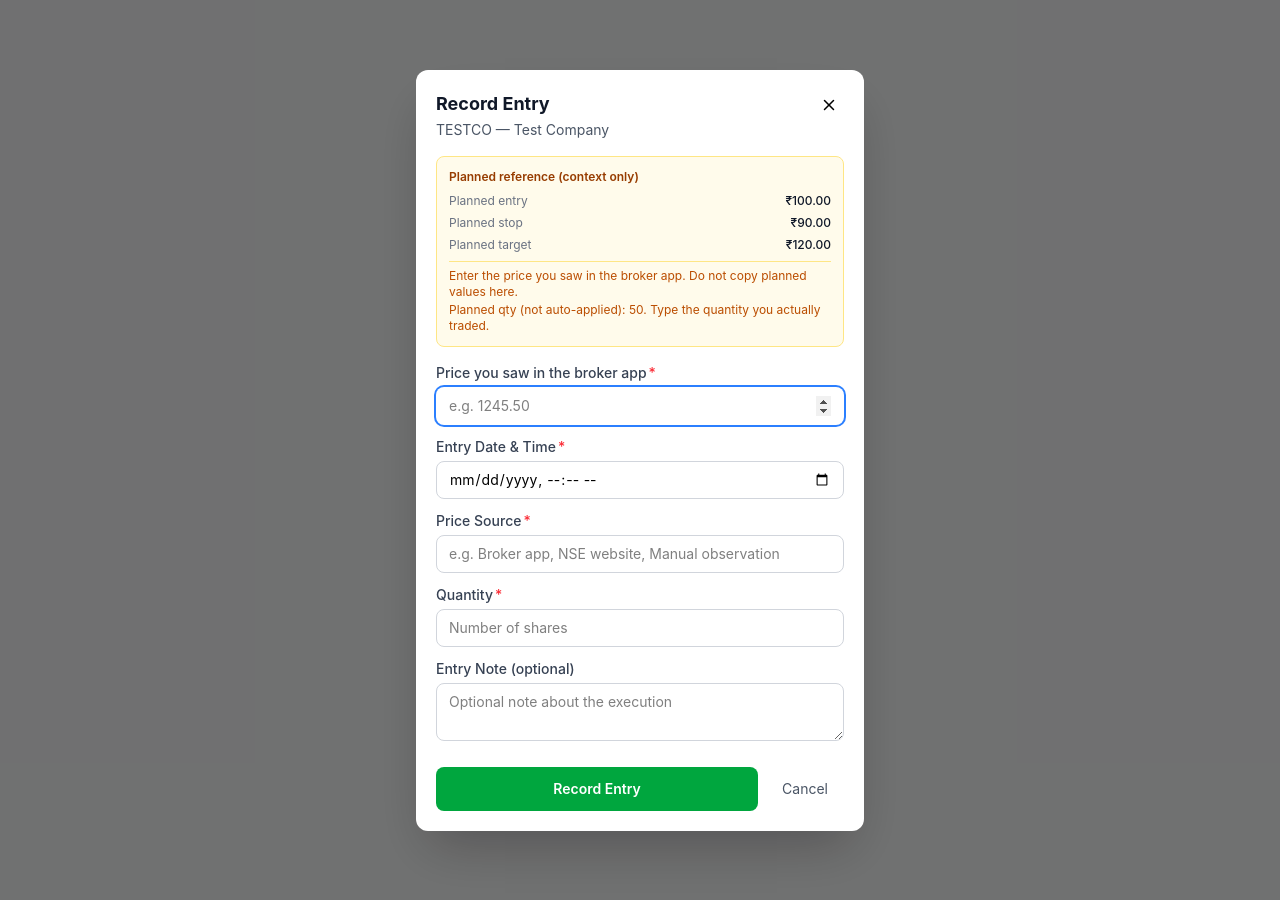
Test: OpenTradeModal › requires entry price source before submit
Type "101.25" into the number field labelled "Price you saw in the broker app*".
click(640, 406); type("101.25")  # box [436,386,844,424]
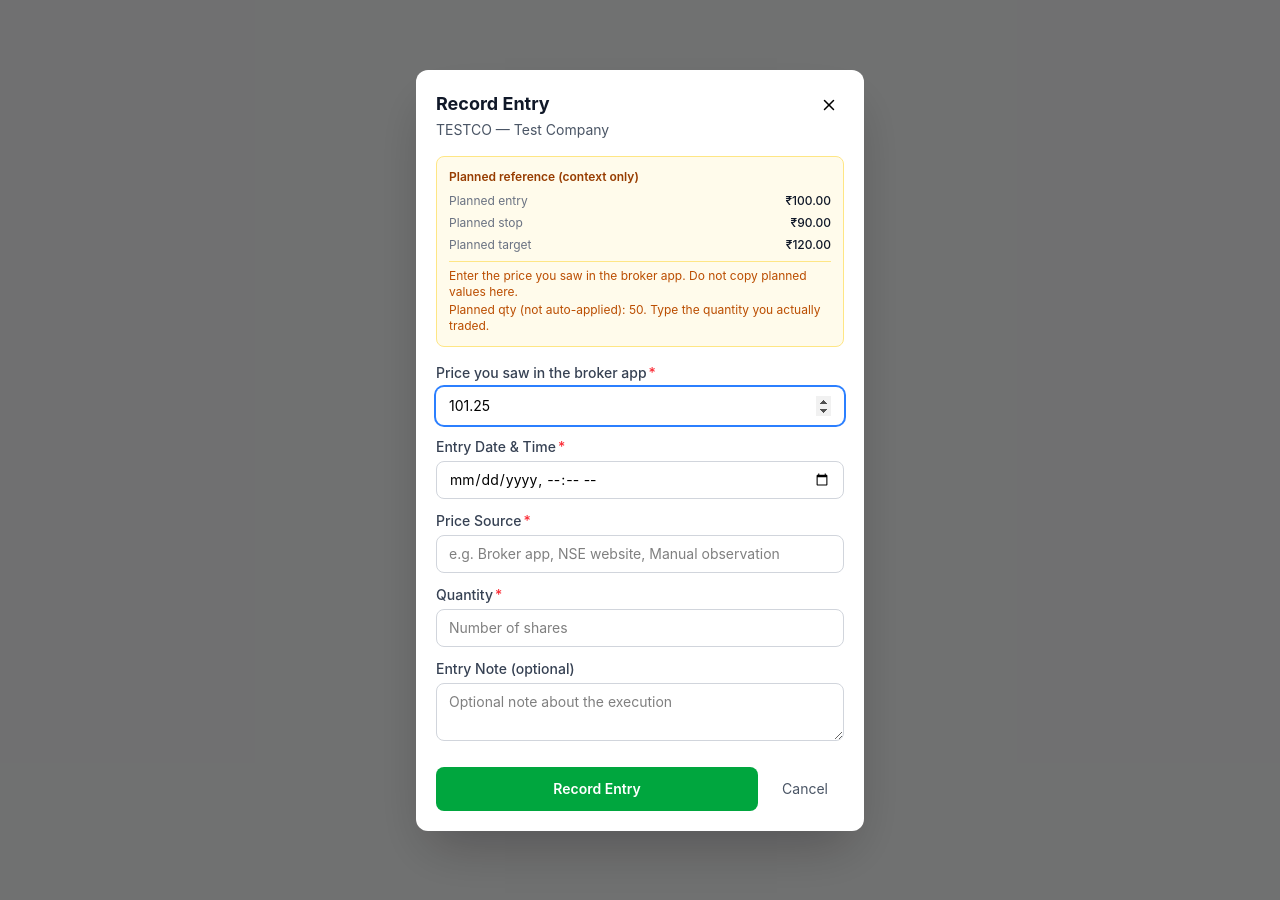
Type "2026-08-20T10:30" into the field labelled "Entry Date & Time*".
click(640, 480); type("2026-08-20T10:30")  # box [436,460,844,498]
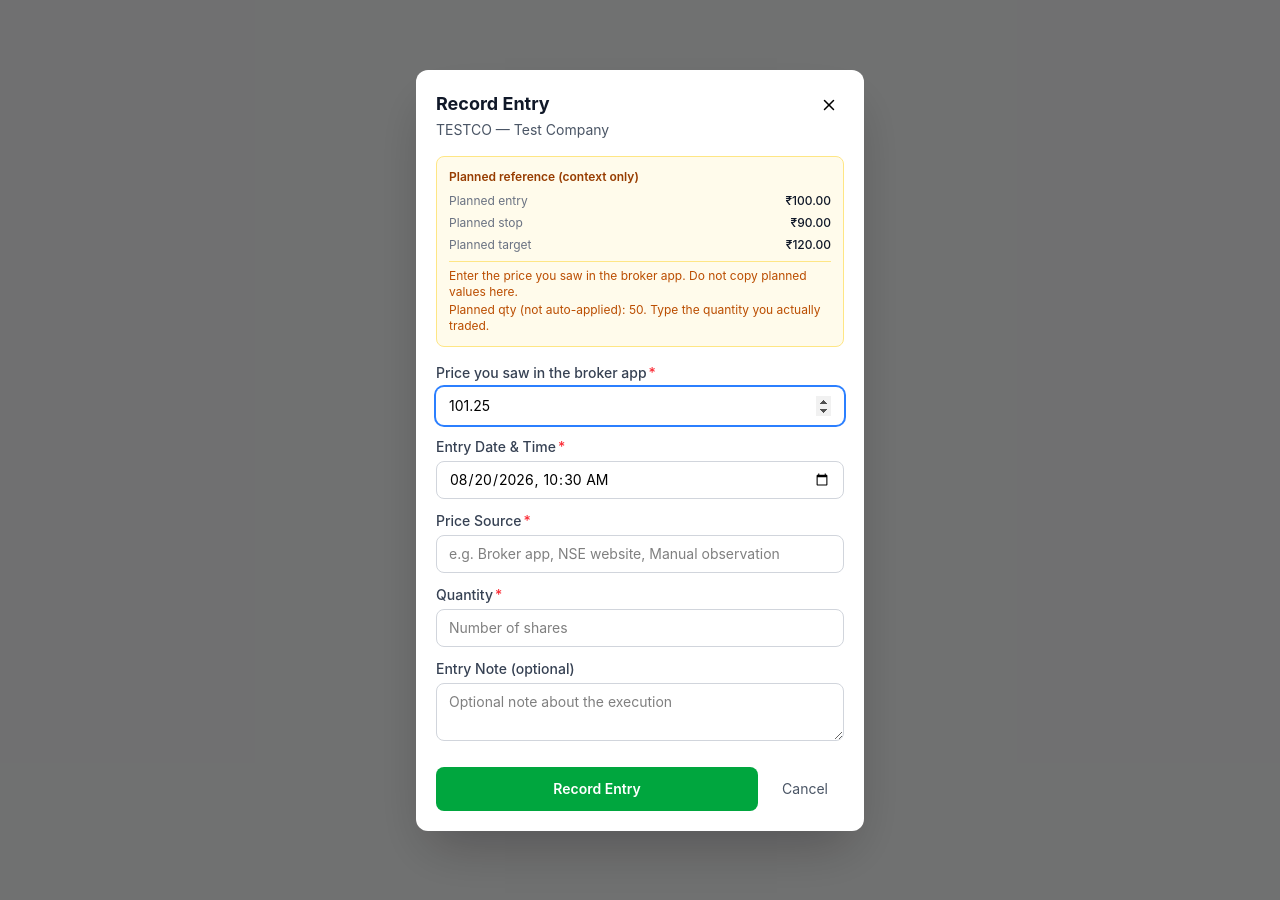
Click the button with id "open-trade-submit".
click(597, 788)  # box [436,766,758,810]
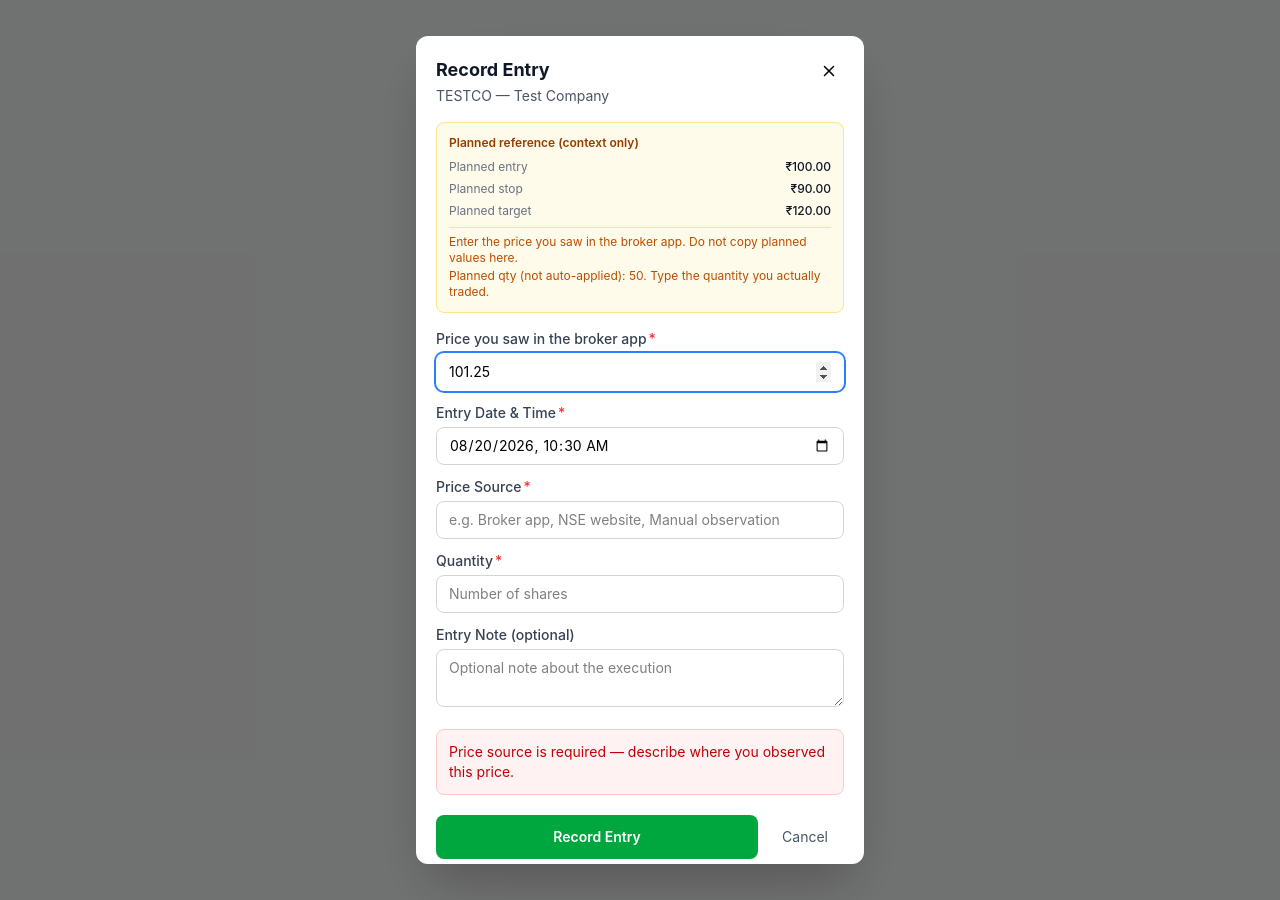
Check: the text "Price source is required" is shown, box [449,743,825,780]
